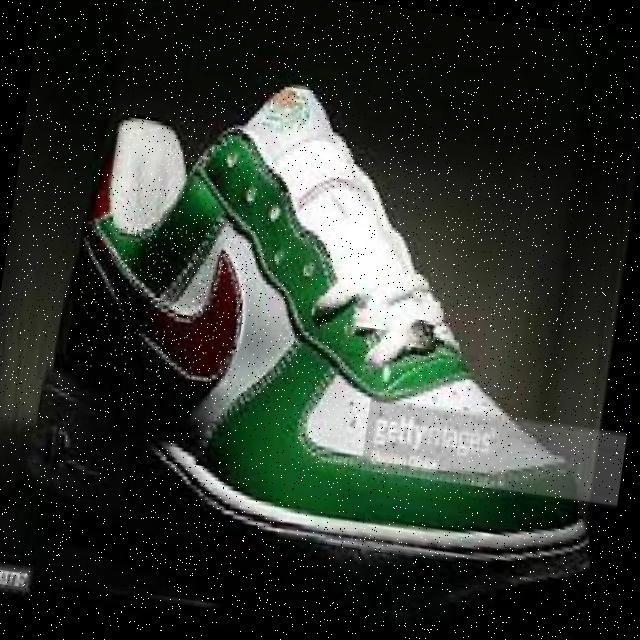Nike: (68, 215, 254, 389)
